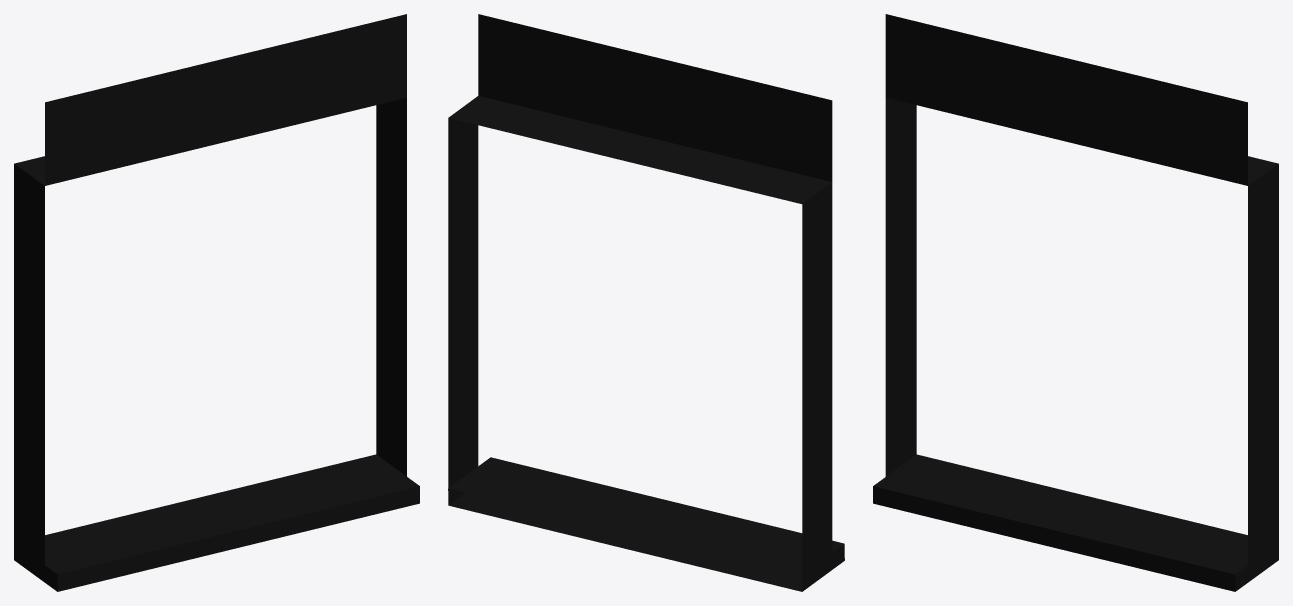
File: Itr_Wall_Color_03(for_window).FBX
3 views of the same model, side by side, from view 1: azimuth 30°, elevation 25°; view 2: azimuth 150°, elevation 25°; view 3: azimuth 330°, elevation 25° (orthographic). The views are drawn at different scales.
Parts seen in each view (by area): view 1: Itr_Wall_Color_03(for_window); view 2: Itr_Wall_Color_03(for_window); view 3: Itr_Wall_Color_03(for_window).
Boxes of the visible parts, x1,y1,x2,y2 form: Itr_Wall_Color_03(for_window): (14, 14, 419, 591); Itr_Wall_Color_03(for_window): (448, 14, 844, 591); Itr_Wall_Color_03(for_window): (873, 14, 1278, 591).
Bounding box in the file's own units: 65.28 × 82.71 × 13.59.
